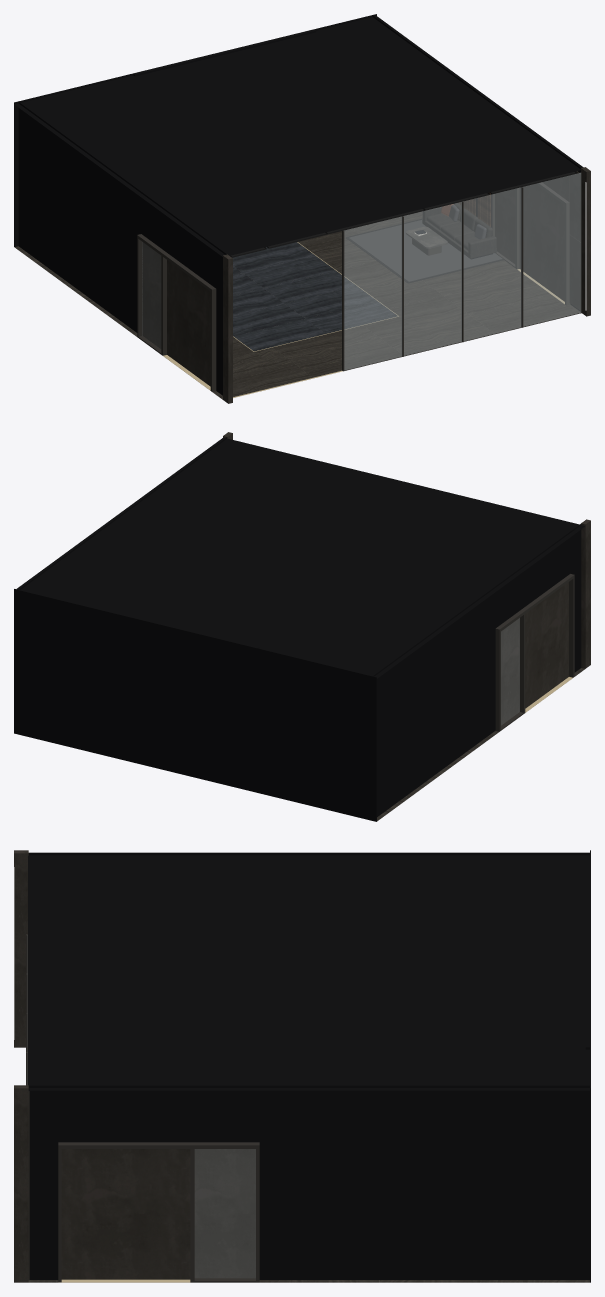
Rendered from room_sport.glb.
3 views of the same model, one above another, from view 1: azimuth 30°, elevation 25°; view 2: azimuth 150°, elevation 25°; view 3: azimuth 270°, elevation 25° (orthographic). The views are drawn at different scales.
Parts seen in each view (by area): view 1: MTG_Reveals, MTG_Glass_Vitrine, MTG_Floor, MTG_PortalFill_L, MTG_PortalFill_R, MTG_Rug, MTG_Walls, MTG_Sofa, MTG_Glass_PortalL, MTG_Pier_-1, MTG_Pier_1, MTG_Ceiling (+5 smaller); view 2: MTG_Reveals, MTG_PortalFill_L, MTG_Glass_PortalL, MTG_Pier_-1, MTG_PortalL_Mull, MTG_Floor, MTG_PortalL_JambA, MTG_PortalL_Head, MTG_PortalL_JambB; view 3: MTG_Reveals, MTG_PortalFill_R, MTG_Glass_PortalR, MTG_Pier_1, MTG_Pier_-1, MTG_PortalR_Head, MTG_Floor, MTG_PortalR_Mull.
Boxes of the visible parts, x1=… form: MTG_Reveals: x1=14, y1=14, x2=583, y2=395; MTG_Glass_Vitrine: x1=344, y1=173, x2=580, y2=369; MTG_Floor: x1=14, y1=211, x2=579, y2=399; MTG_PortalFill_L: x1=142, y1=242, x2=210, y2=386; MTG_PortalFill_R: x1=495, y1=184, x2=564, y2=301; MTG_Rug: x1=349, y1=220, x2=502, y2=281; MTG_Walls: x1=458, y1=171, x2=580, y2=310; MTG_Sofa: x1=422, y1=203, x2=496, y2=259; MTG_Glass_PortalL: x1=142, y1=242, x2=160, y2=348; MTG_Pier_-1: x1=223, y1=254, x2=232, y2=403; MTG_Pier_1: x1=581, y1=167, x2=590, y2=316; MTG_Ceiling: x1=230, y1=171, x2=576, y2=257; MTG_Reveals: x1=14, y1=437, x2=584, y2=821; MTG_PortalFill_L: x1=501, y1=582, x2=568, y2=725; MTG_Glass_PortalL: x1=501, y1=618, x2=519, y2=724; MTG_Pier_-1: x1=581, y1=519, x2=590, y2=668; MTG_PortalL_Mull: x1=519, y1=614, x2=525, y2=713; MTG_Floor: x1=377, y1=668, x2=584, y2=821; MTG_PortalL_JambA: x1=495, y1=631, x2=500, y2=731; MTG_PortalL_Head: x1=495, y1=574, x2=574, y2=632; MTG_PortalL_JambB: x1=569, y1=578, x2=574, y2=677; MTG_Reveals: x1=28, y1=850, x2=590, y2=1282; MTG_PortalFill_R: x1=61, y1=1149, x2=255, y2=1279; MTG_Glass_PortalR: x1=195, y1=1149, x2=255, y2=1277; MTG_Pier_1: x1=14, y1=1085, x2=28, y2=1282; MTG_Pier_-1: x1=14, y1=850, x2=28, y2=1047; MTG_PortalR_Head: x1=58, y1=1142, x2=259, y2=1148; MTG_Floor: x1=28, y1=1280, x2=589, y2=1282; MTG_PortalR_Mull: x1=190, y1=1149, x2=194, y2=1282.
Size of the model in its own units: 13 by 4.95 by 13.32.
25 materials, 6 textured.
